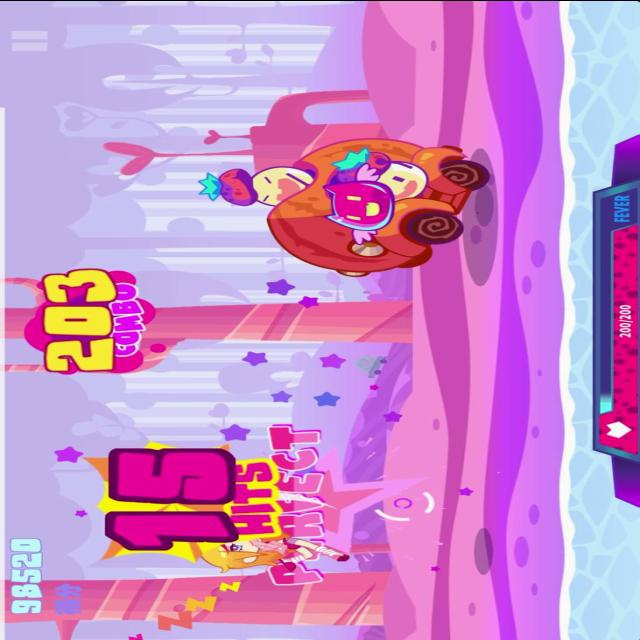cheboss: (194, 135, 494, 277)
